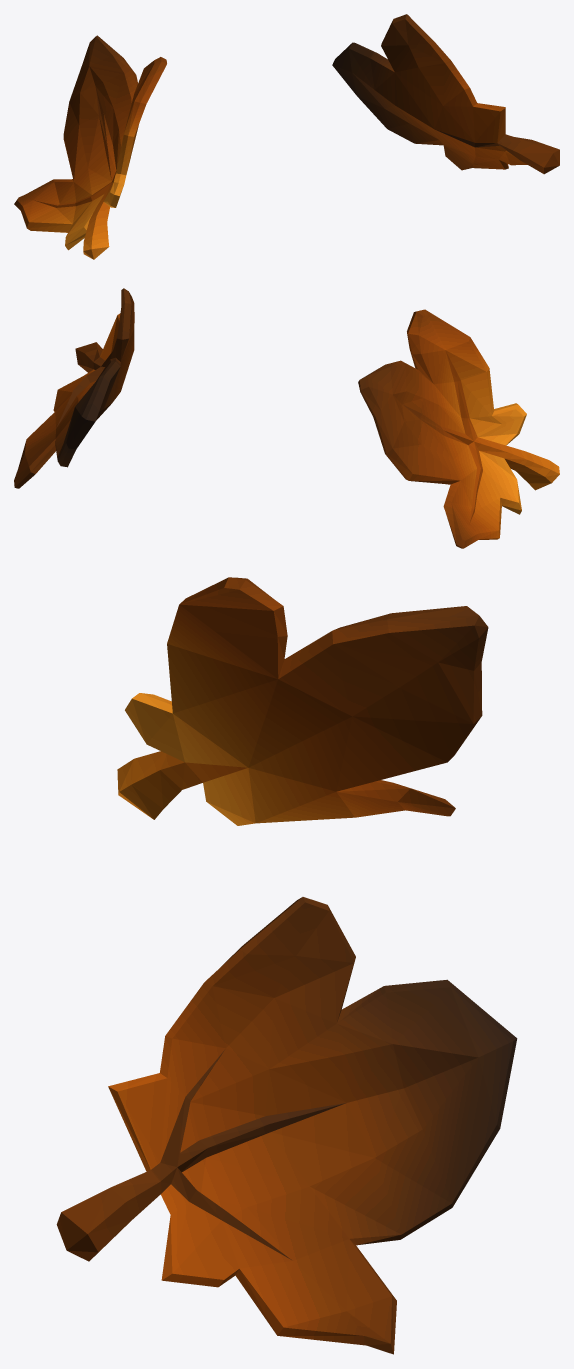
Rendered from CharSkyKid_Hat_MischiefLeaf.glb.
3 renders of one model, top to bottom at view 1: azimuth 30°, elevation 25°; view 2: azimuth 150°, elevation 25°; view 3: azimuth 270°, elevation 25°, orthographic. The views are drawn at different scales.
Visible parts, largest first — view 1: CharSkyKid_Hat_MischiefLeaf; view 2: CharSkyKid_Hat_MischiefLeaf; view 3: CharSkyKid_Hat_MischiefLeaf.
Part boxes in pixels (x1,y1,x2,y2): CharSkyKid_Hat_MischiefLeaf: [14, 14, 559, 259]; CharSkyKid_Hat_MischiefLeaf: [14, 288, 559, 548]; CharSkyKid_Hat_MischiefLeaf: [56, 577, 517, 1354].
Size of the model in its own units: 3.34 by 1.52 by 1.43.
1 material, 1 textured.
